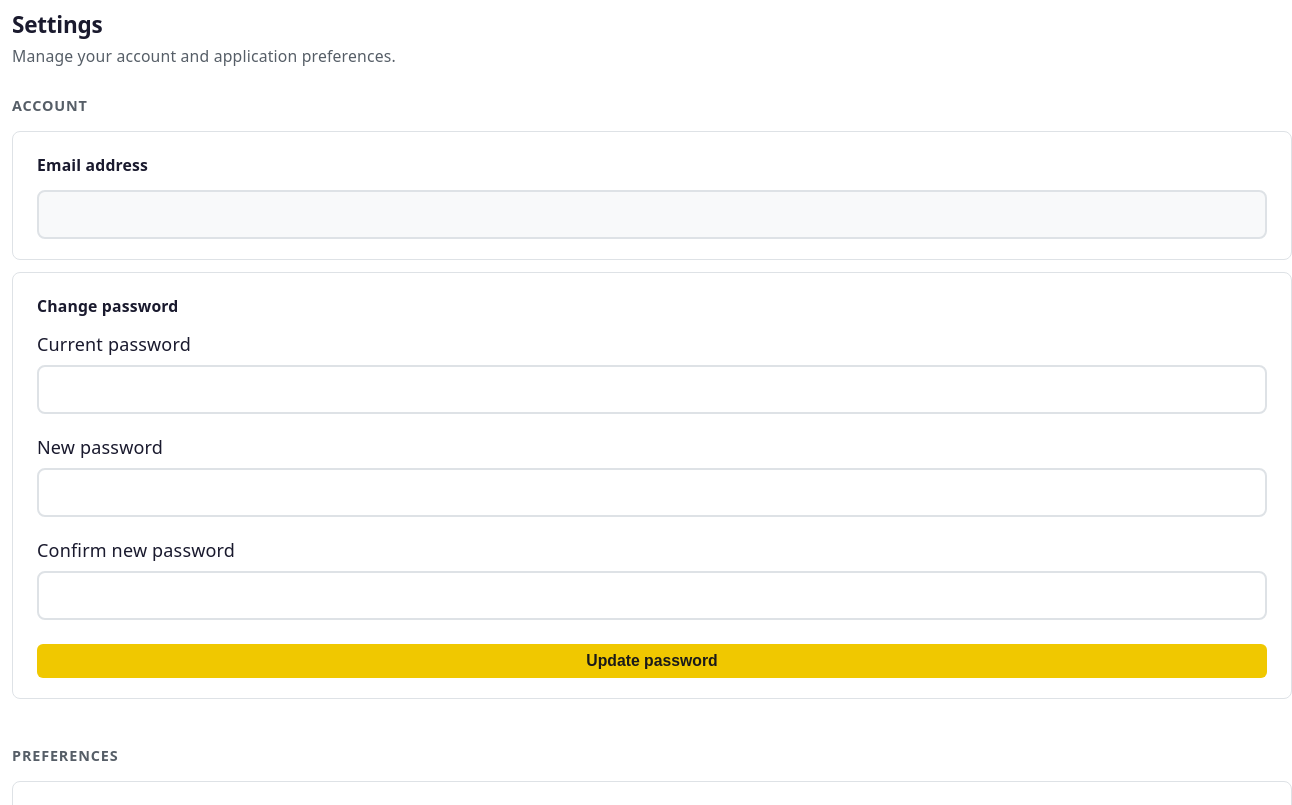
Test: SettingsPage › shows success message on password change
In the password field labelled "Current password": (652, 390) [37, 365, 1267, 414], type "oldPass1!"
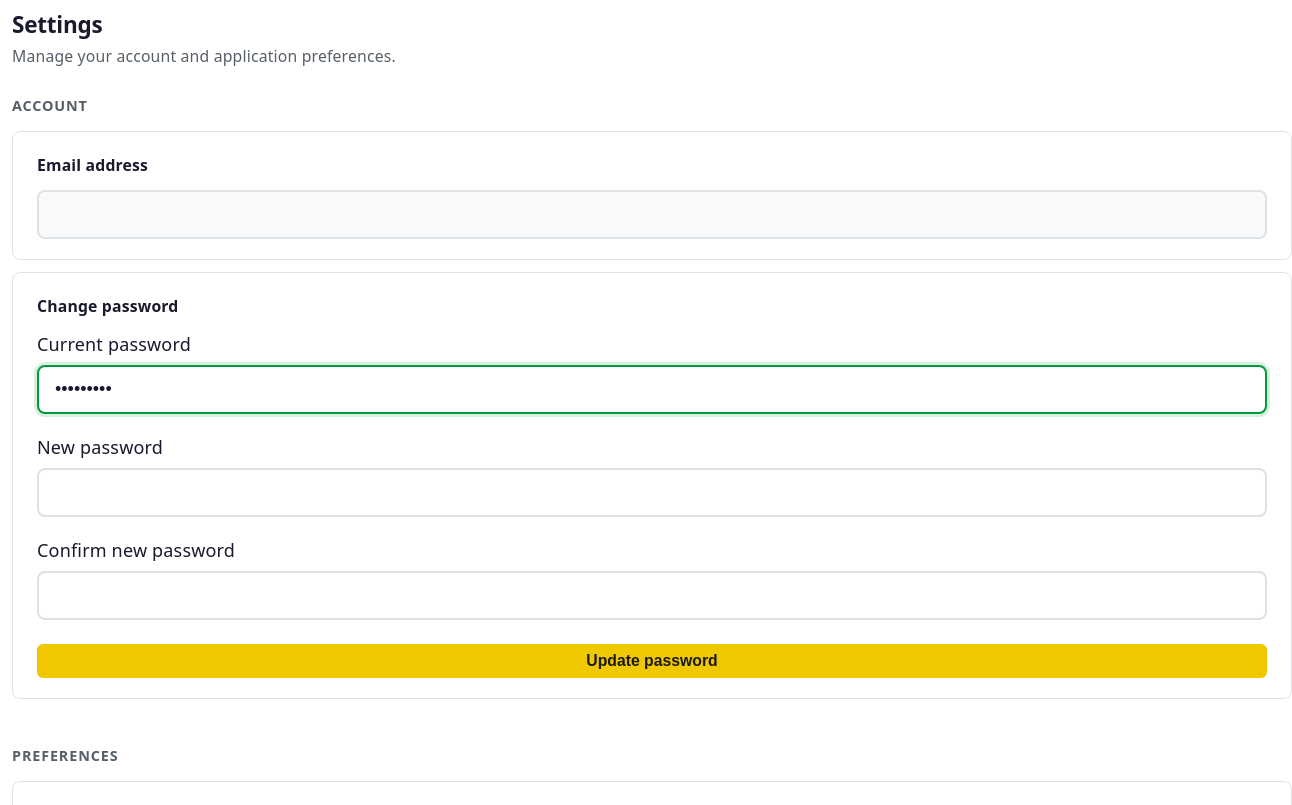
In the password field labelled "New password": (652, 493) [37, 468, 1267, 517], type "newPass1!"
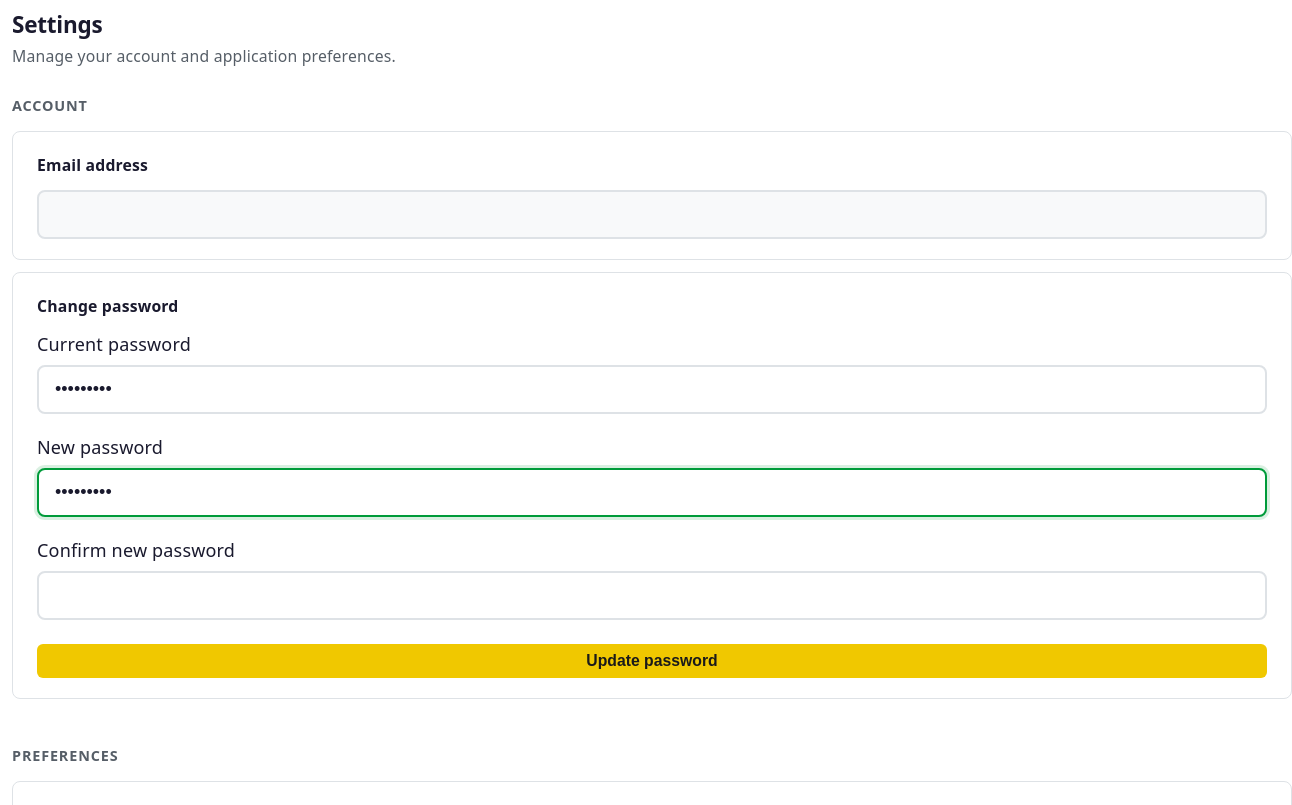
In the password field labelled "Confirm new password": (652, 596) [37, 571, 1267, 620], type "newPass1!"
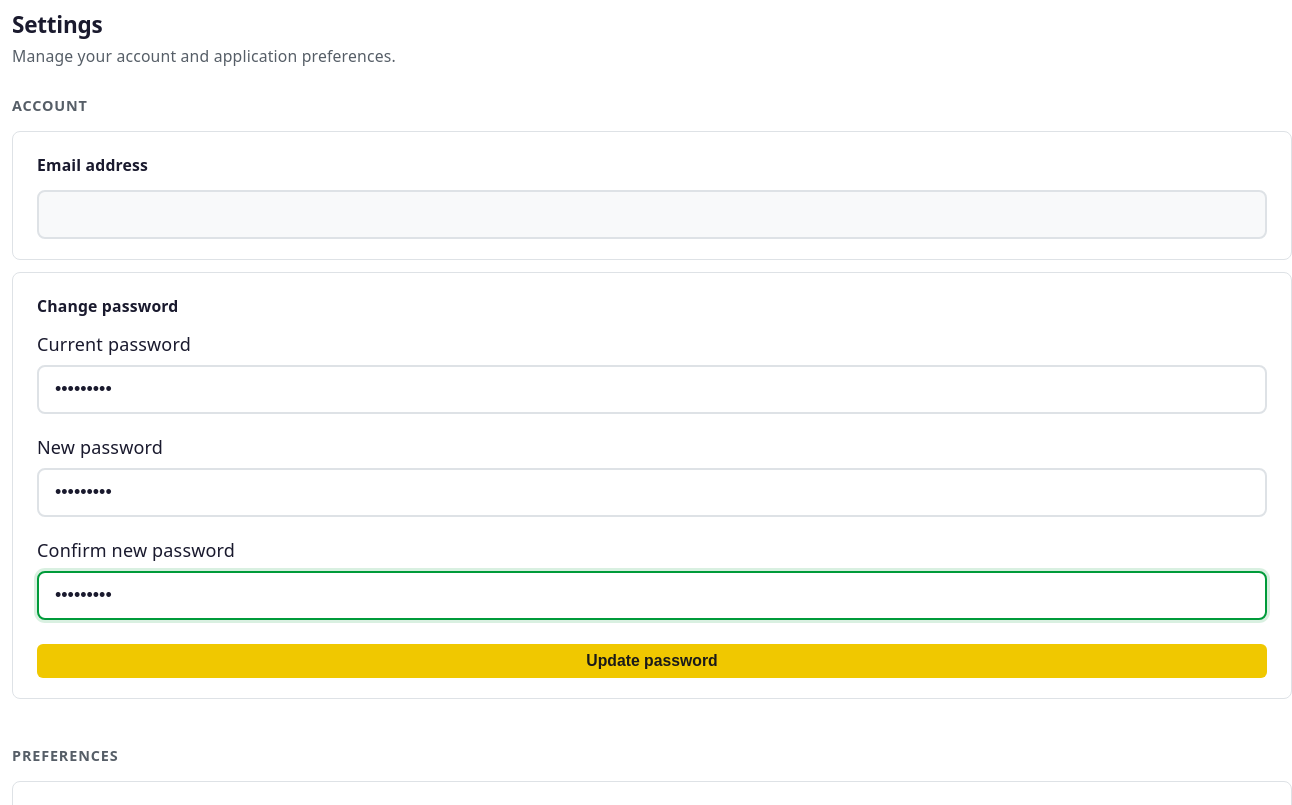
Click the button "Update password": (652, 661) [37, 644, 1267, 678]
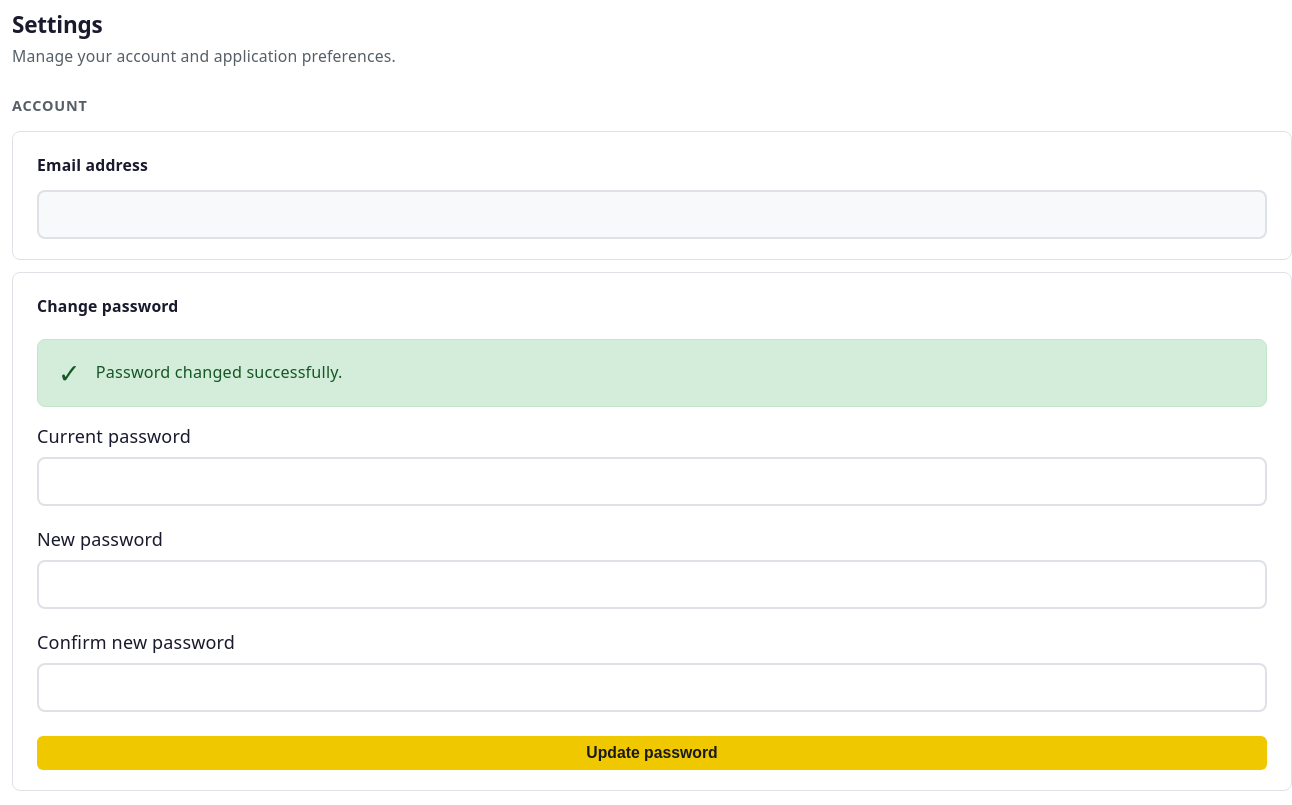
Now the text "Password changed successfully." is shown, box [96, 360, 343, 384]
